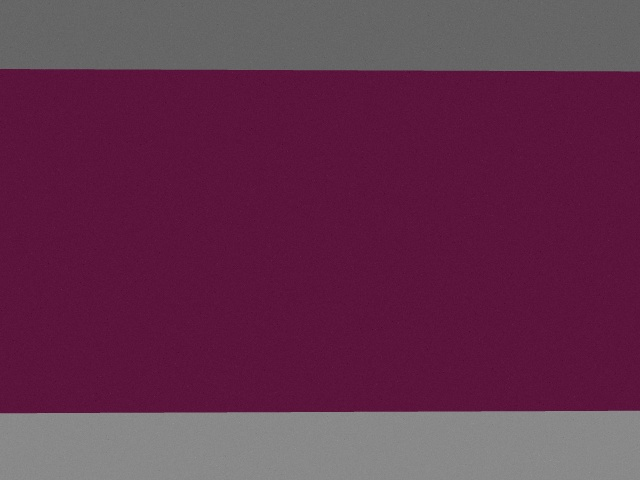red_drop_zone: (0, 69, 640, 413)
